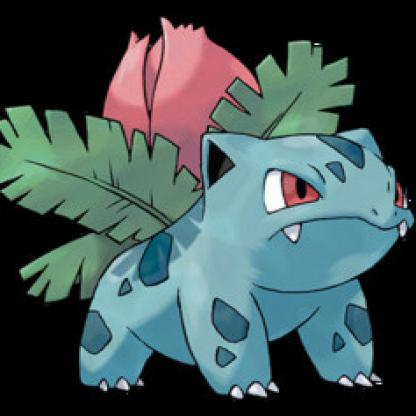Ivysaur: (8, 38, 415, 394)
